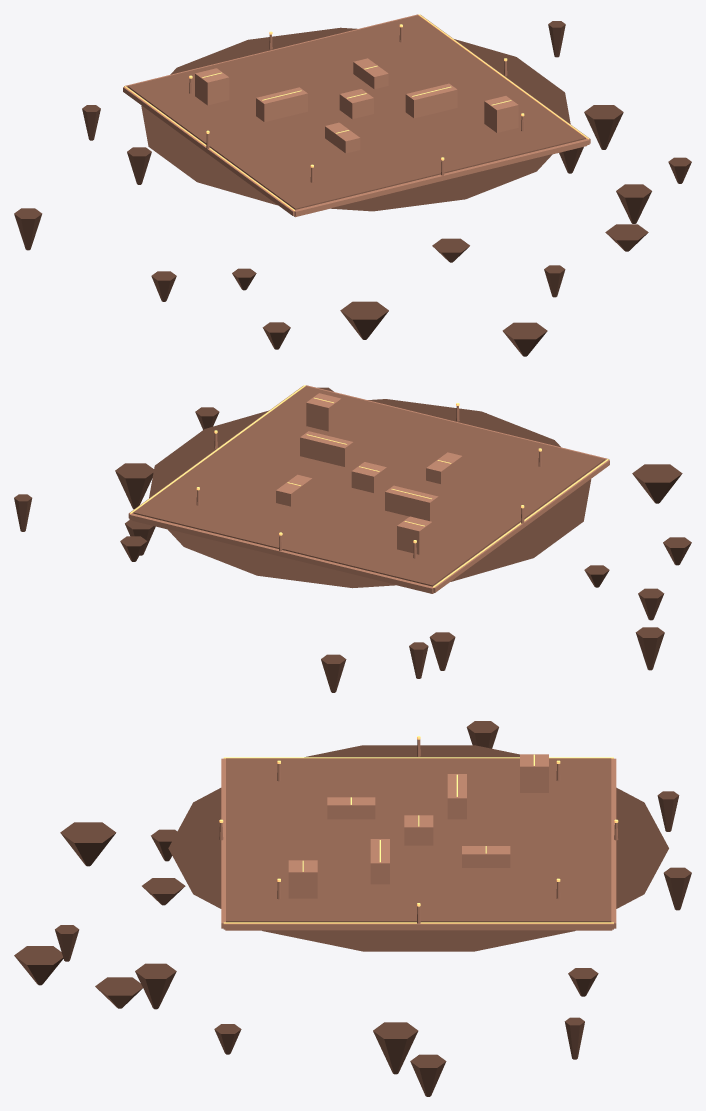
Rendered from marte.glb.
3 renders of one model, top to bottom at view 1: azimuth 30°, elevation 25°; view 2: azimuth 150°, elevation 25°; view 3: azimuth 270°, elevation 25°, orthographic. The views are drawn at different scales.
Parts seen in each view (by area): view 1: marte; view 2: marte; view 3: marte.
Boxes of the visible parts, x1,y1,x2,y2 form: marte: (14,14,691,356); marte: (14,385,691,692); marte: (14,721,691,1096).
Size of the model in its own units: 80.73 by 19.37 by 70.38.
